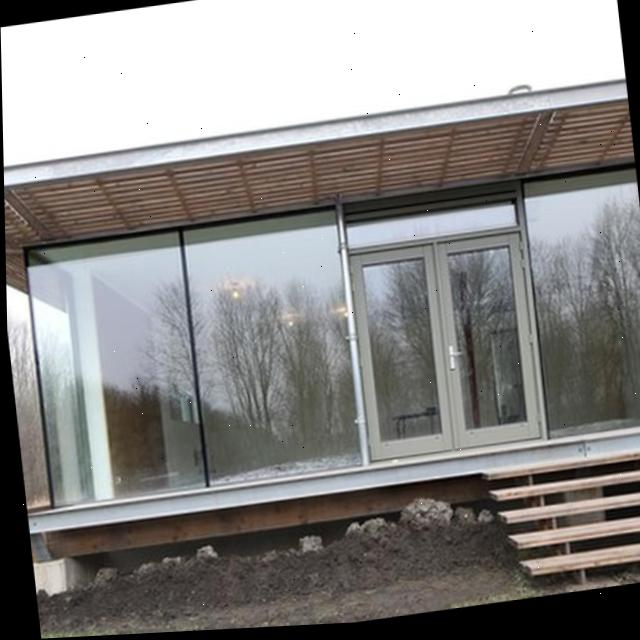building: (2, 74, 640, 585)
